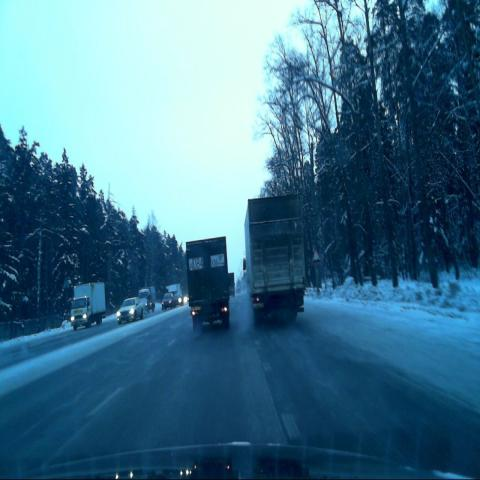1_16: (312, 249, 321, 264)
